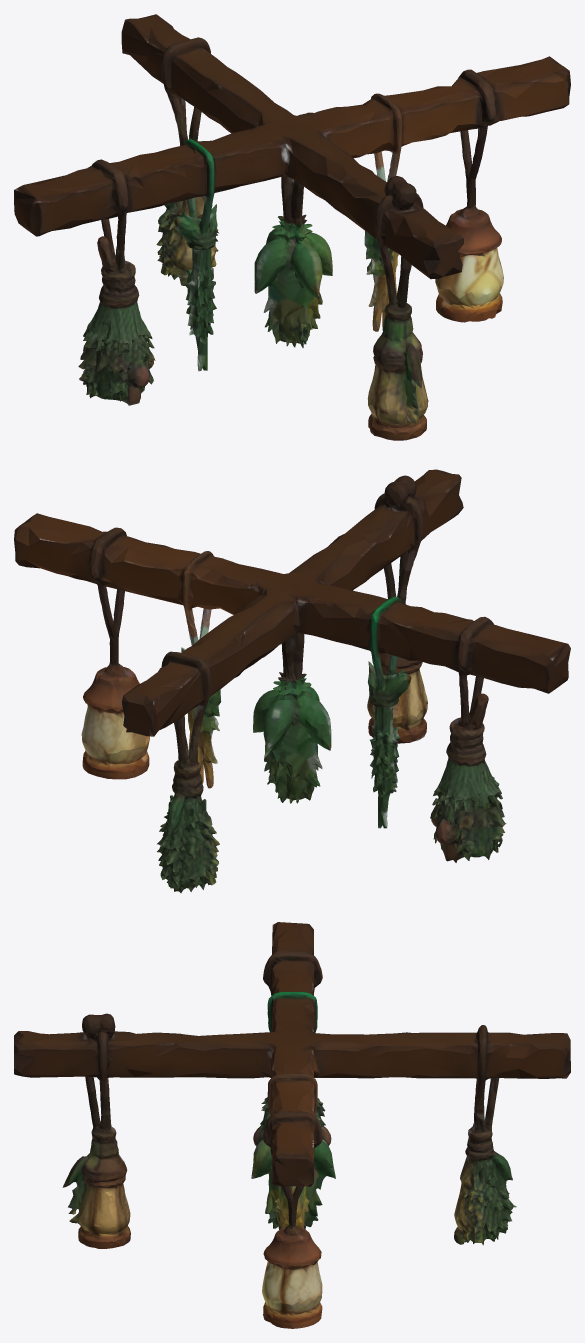
Rendered from Furn_SylvaRack.glb.
The picture shows the model from 3 angles, top to bottom: view 1: azimuth 30°, elevation 25°; view 2: azimuth 150°, elevation 25°; view 3: azimuth 270°, elevation 25°; orthographic projection. The views are drawn at different scales.
Parts seen in each view (by area): view 1: Furn_SylvaRack; view 2: Furn_SylvaRack; view 3: Furn_SylvaRack.
Boxes of the visible parts, x1=… form: Furn_SylvaRack: x1=14, y1=14, x2=570, y2=440; Furn_SylvaRack: x1=14, y1=469, x2=570, y2=893; Furn_SylvaRack: x1=14, y1=922, x2=570, y2=1328.
Bounding box in the file's own units: 1.5 × 0.668 × 1.5.
1 material, 1 textured.
